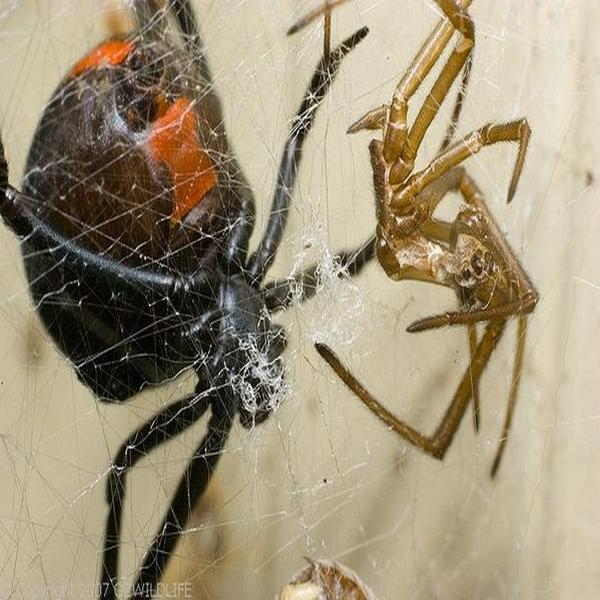Redback Spider: (1, 2, 355, 600)
